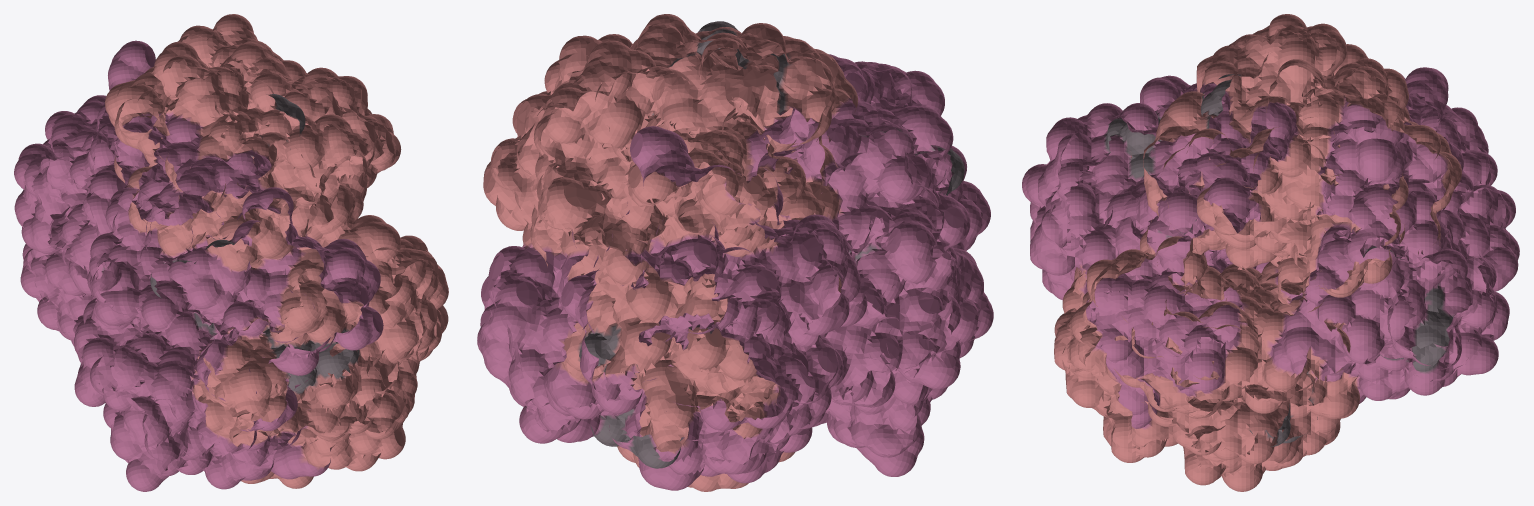
File: hemoglobin_1gzx.glb
3 views of the same model, side by side, from view 1: azimuth 30°, elevation 25°; view 2: azimuth 150°, elevation 25°; view 3: azimuth 270°, elevation 25° (orthographic). The views are drawn at different scales.
Parts seen in each view (by area): view 1: world; view 2: world; view 3: world.
Boxes of the visible parts, x1,y1,x2,y2 form: world: (14, 14, 448, 491); world: (477, 14, 993, 491); world: (1022, 14, 1519, 491).
Bounding box in the file's own units: 2037416 × 2275289 × 2405679.
